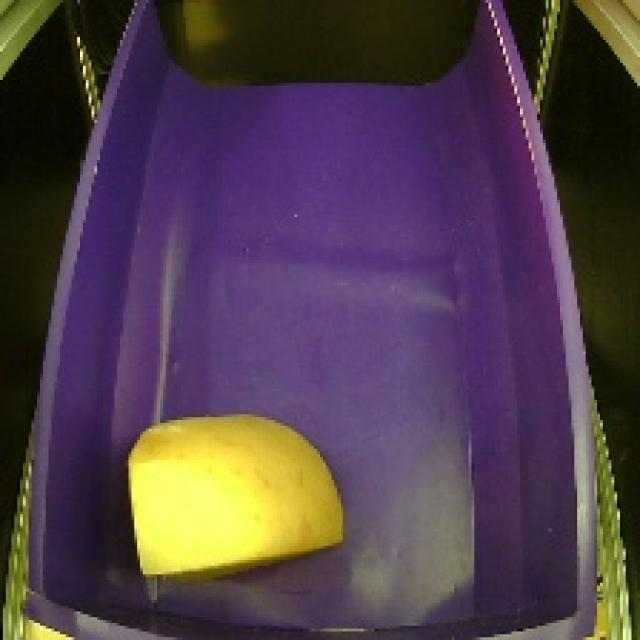potato: (105, 402, 357, 586)
